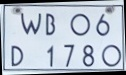character: (69, 13, 90, 36), (20, 12, 41, 34), (101, 44, 121, 67), (95, 13, 109, 36), (82, 44, 94, 67), (63, 44, 74, 67), (11, 45, 23, 66), (45, 13, 54, 36), (46, 45, 53, 67)
